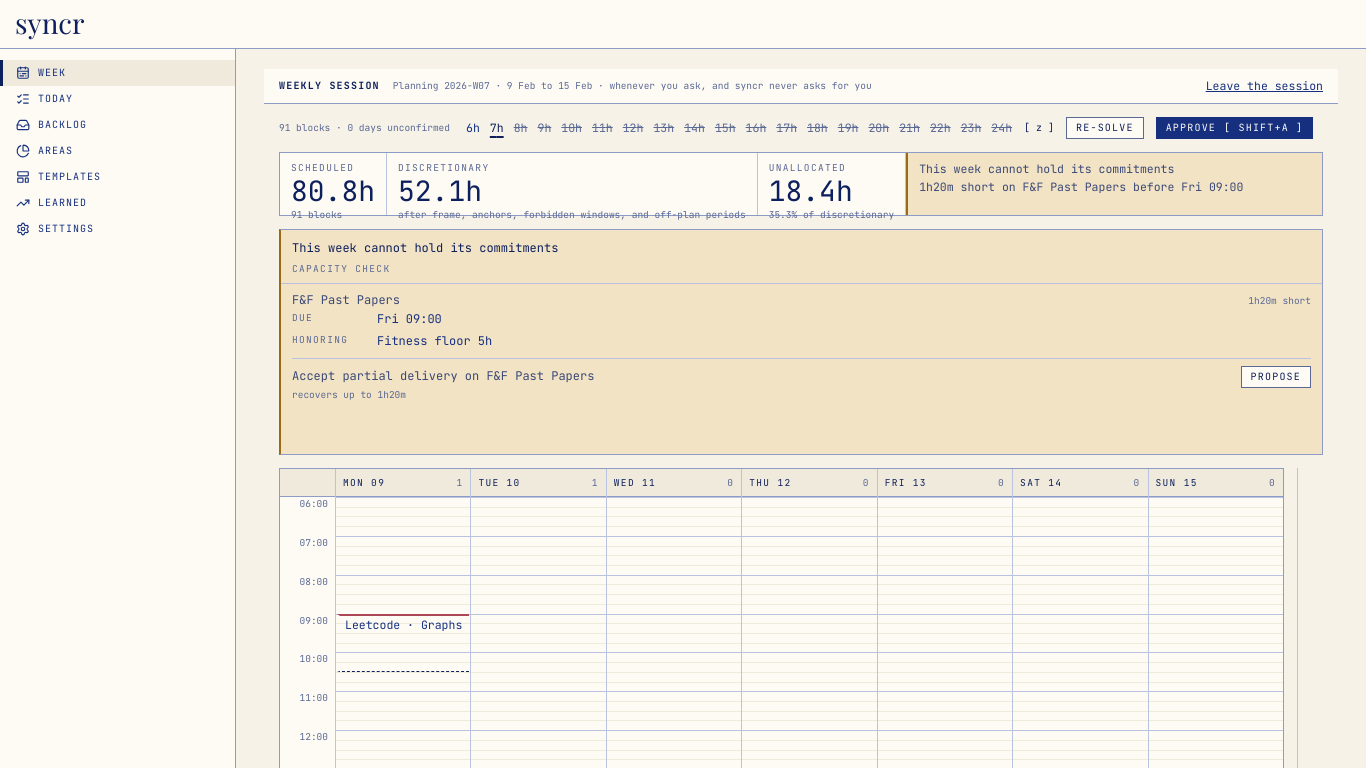
the verdict and the one approve action › reflows the verdict live from the pin the reader made inside the mode
Expected: the element named "Verdict" is shown, 279,229 -> 1323,455
Click the button with aria-label "Leetcode · Graphs · Career" at {"x": 403, "y": 643}, box 337,614 -> 469,672
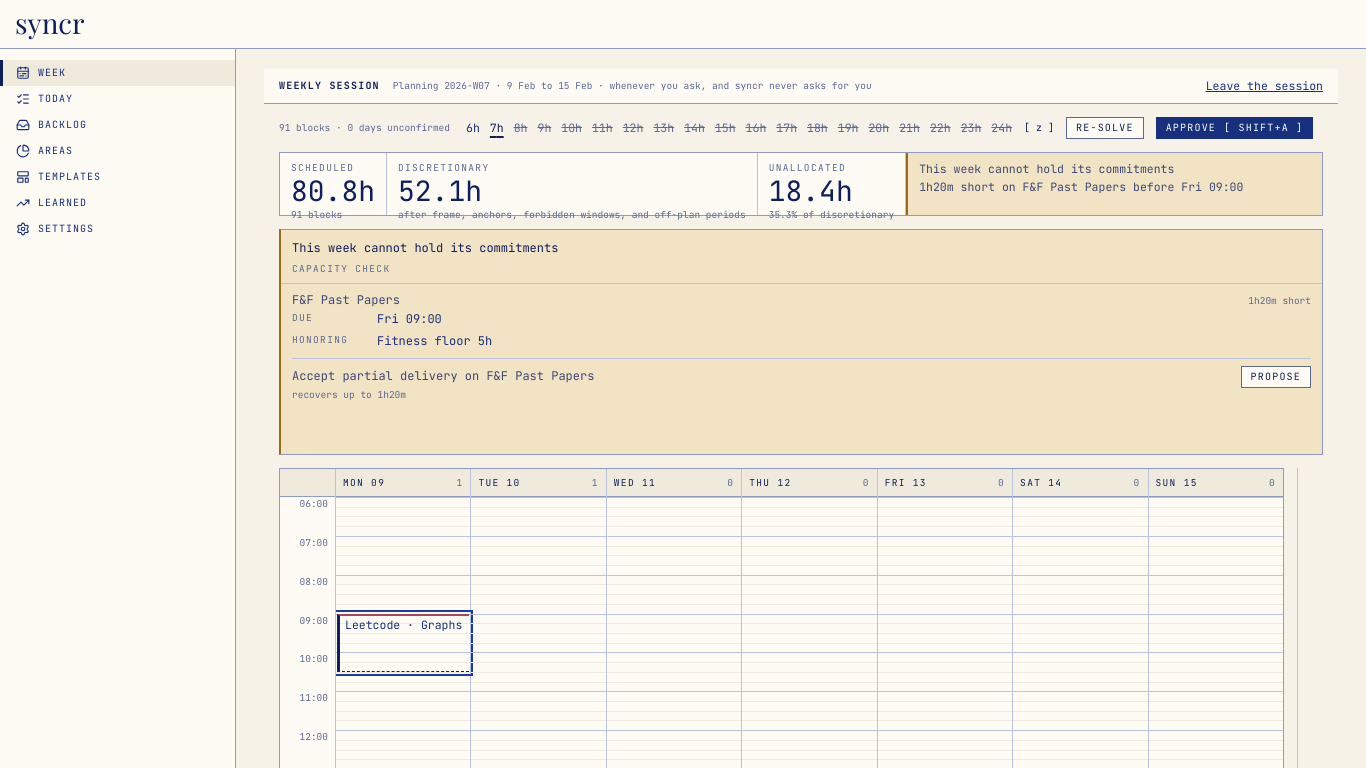
Type keys "{Shift>}{ArrowDown}{/Shift}"
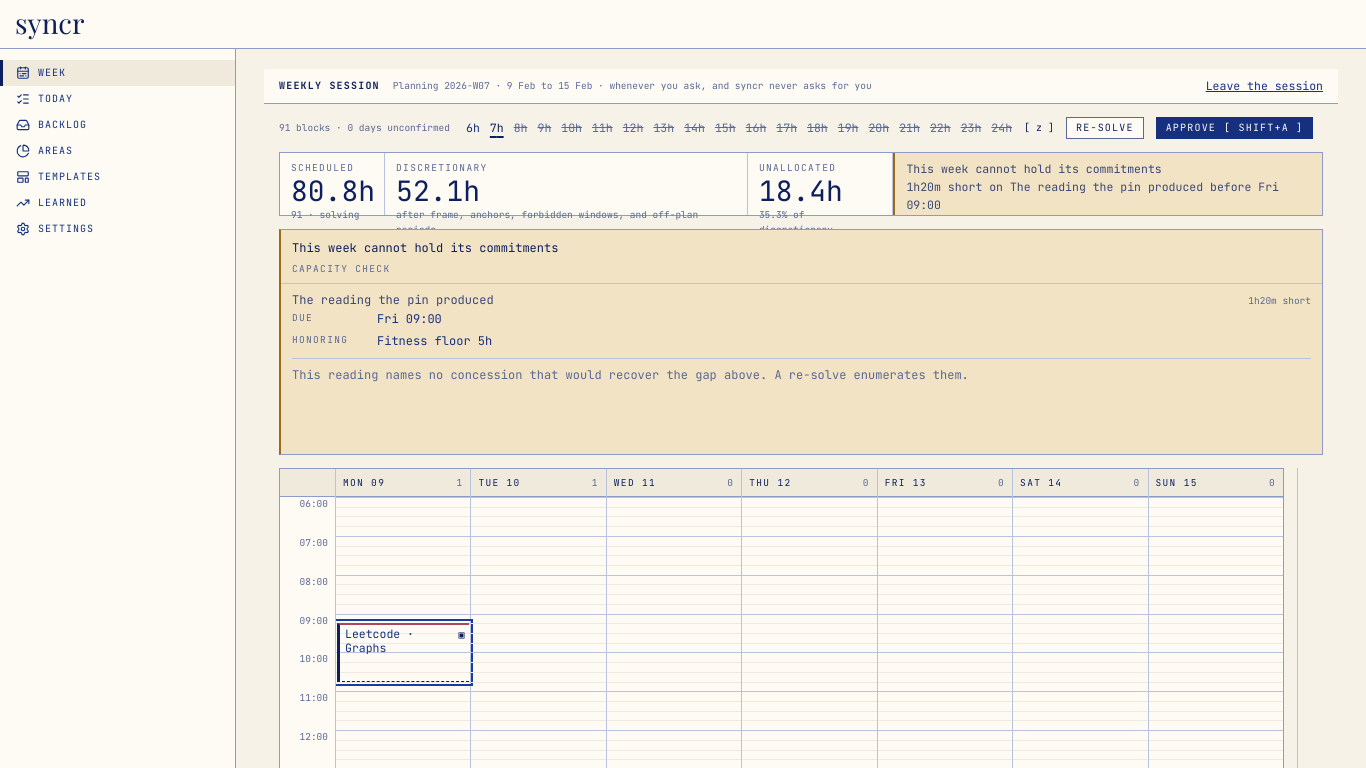
Now the text "The reading the pin produced" is shown, box 292,291 -> 494,310
